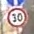limite 30: (6, 7, 28, 28)
